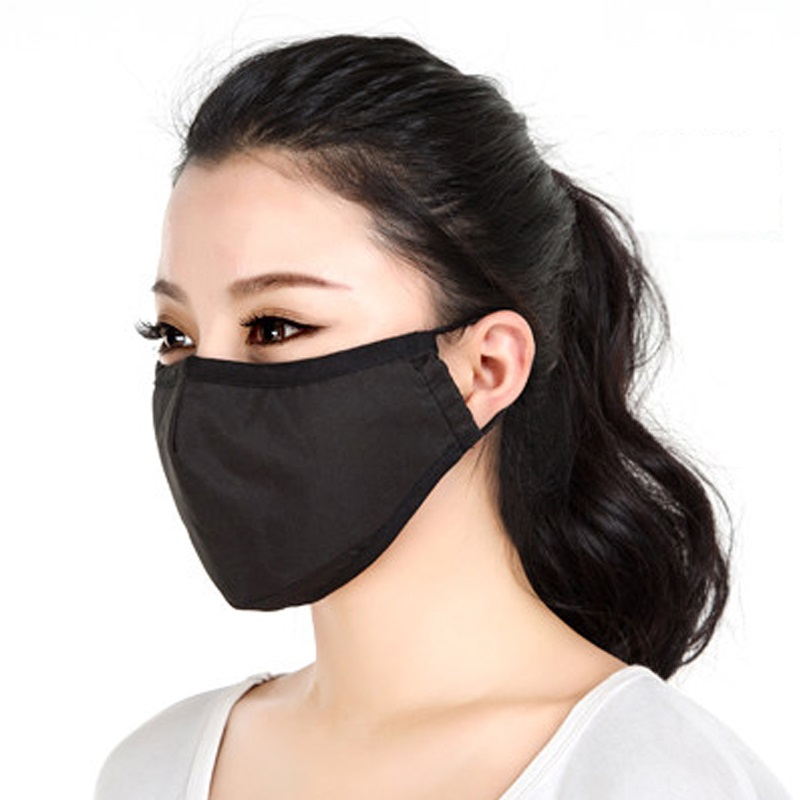face_mask: (146, 161, 440, 579)
